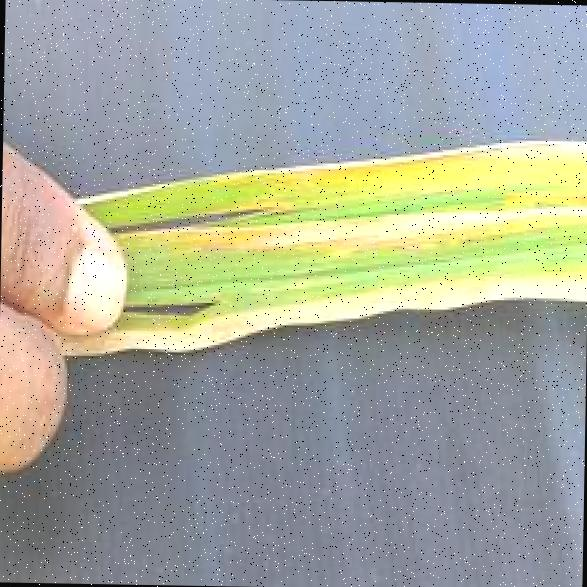Bacteria_Leaf_Blight: (80, 148, 572, 340)
